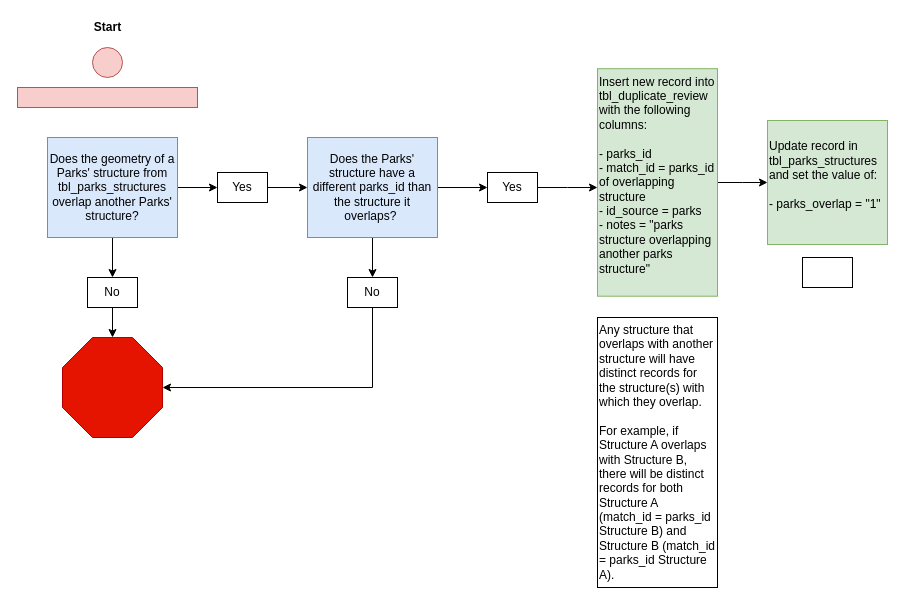
This 905x605 diagram has some shape labels left out. The shapes that lost their labels are listed below. From the top down, each one's box as (x1, y1, x2, y2) in pixels, then its label:
(16, 86, 198, 108): sp_i_tbl_duplicate_review
(802, 256, 852, 288): Fin .
(62, 336, 162, 438): No Transaction Required
